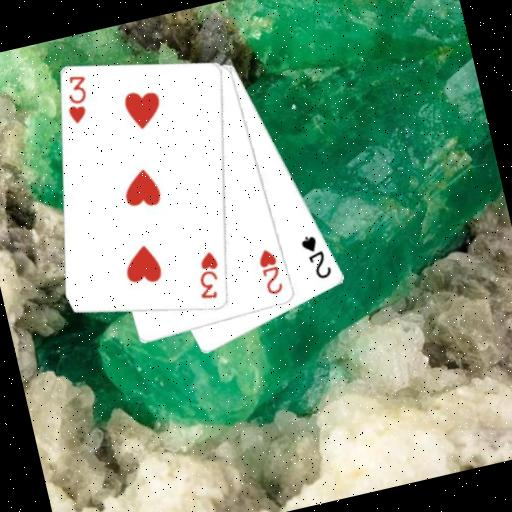2H: (254, 244, 287, 298)
2S: (297, 229, 336, 284)
3H: (58, 71, 97, 128), (189, 248, 228, 304)
